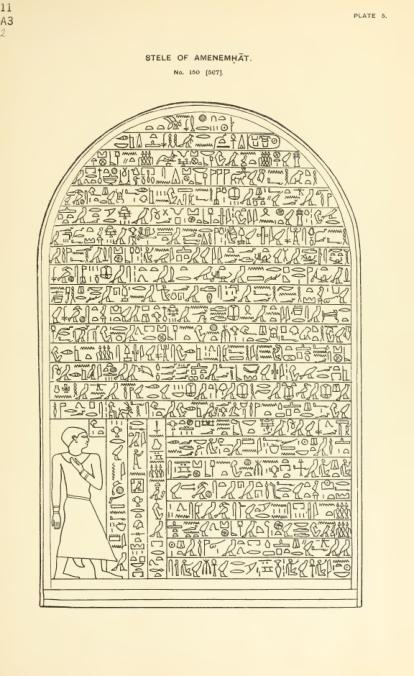circle: (245, 133, 283, 151)
